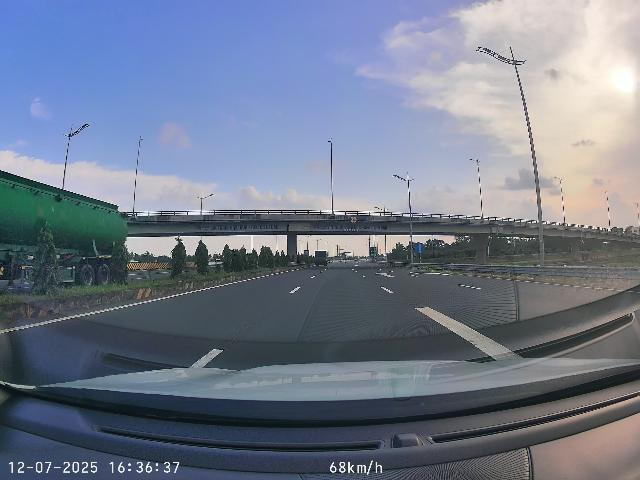301a-cac-xe-chi-duoc-di-thang: (415, 243, 424, 253)
